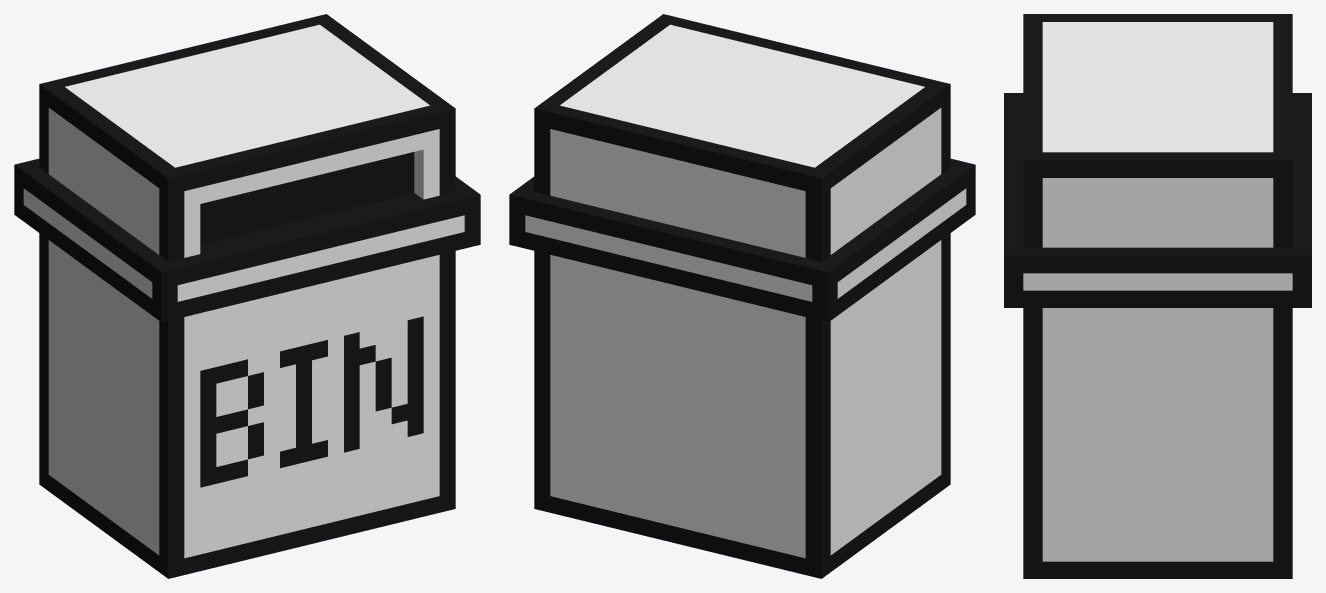
File: Bin.obj
The picture shows the model from 3 angles, left to right: view 1: azimuth 30°, elevation 25°; view 2: azimuth 150°, elevation 25°; view 3: azimuth 270°, elevation 25°; orthographic projection. The views are drawn at different scales.
Parts seen in each view (by area): view 1: Player; view 2: Player; view 3: Player.
Boxes of the visible parts, left/top/right/bottom form: Player: left=14, top=14, right=480, bottom=578; Player: left=509, top=14, right=975, bottom=578; Player: left=1004, top=14, right=1311, bottom=578.
Size of the model in its own units: 2 by 2.4 by 1.6.
1 material, 1 textured.
